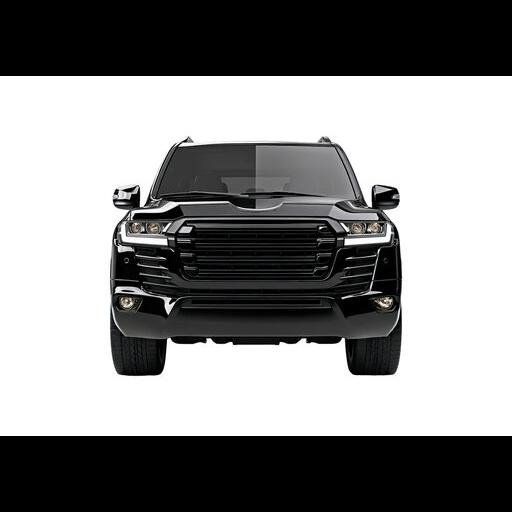suv: (111, 137, 400, 374)
